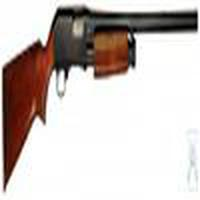gun: (1, 6, 200, 144)
